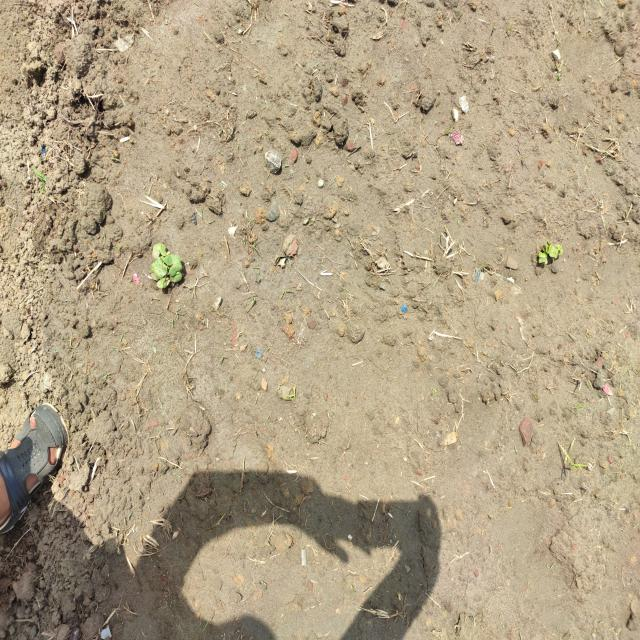seedling: (164, 255, 182, 276), (154, 264, 167, 279), (151, 257, 163, 272), (152, 243, 162, 259), (157, 276, 167, 288), (170, 272, 182, 282), (548, 245, 558, 257), (160, 244, 167, 257), (557, 244, 563, 255), (539, 257, 548, 264), (546, 239, 550, 252), (539, 252, 547, 257)
